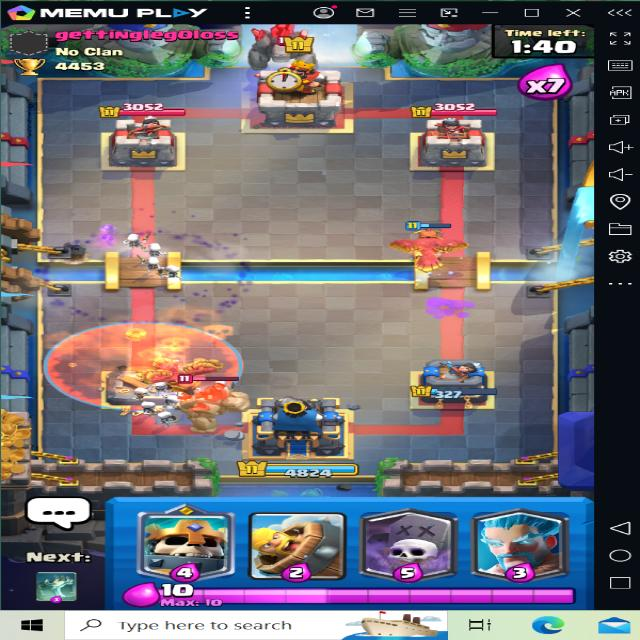golem: (160, 370, 260, 429)
